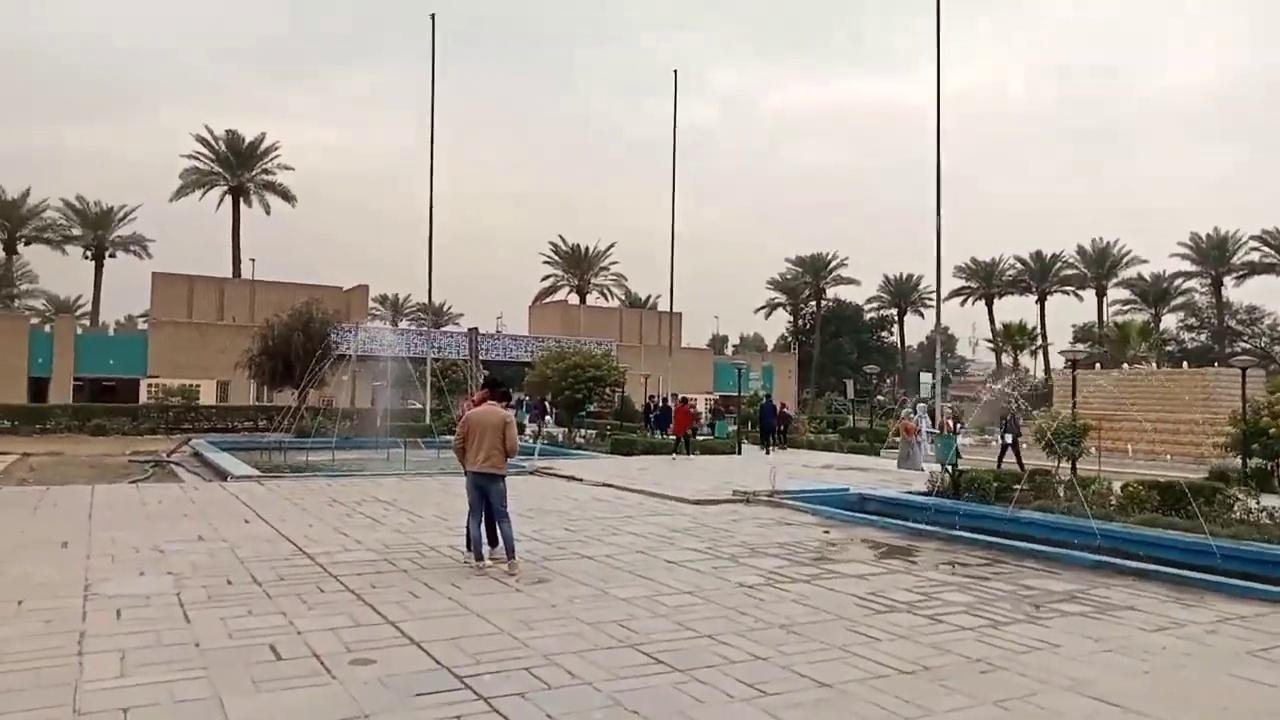car: (400, 398, 423, 408)
fountain: (179, 320, 1277, 600), (731, 464, 1279, 601), (186, 320, 622, 481), (186, 429, 608, 481)
person: (452, 375, 520, 575), (995, 403, 1025, 472), (894, 407, 923, 470), (937, 406, 962, 468), (671, 396, 693, 458), (757, 393, 778, 454), (776, 401, 793, 449)
tree: (168, 122, 297, 278), (45, 192, 154, 327), (782, 249, 860, 413), (233, 295, 344, 397), (1167, 224, 1251, 356), (521, 342, 629, 437), (1062, 235, 1148, 352), (1008, 247, 1082, 381), (942, 253, 1021, 372), (862, 270, 935, 392), (753, 269, 814, 413), (1116, 267, 1197, 368), (531, 232, 629, 306), (406, 298, 464, 423), (366, 290, 417, 420), (0, 183, 51, 311), (1234, 223, 1279, 364), (1225, 384, 1279, 491), (421, 355, 484, 427), (1032, 410, 1095, 479), (986, 317, 1041, 376), (1103, 317, 1155, 366), (1238, 223, 1279, 280), (37, 292, 89, 329), (366, 291, 417, 328), (406, 298, 463, 331), (617, 289, 661, 310), (112, 309, 151, 332), (733, 331, 768, 355)
